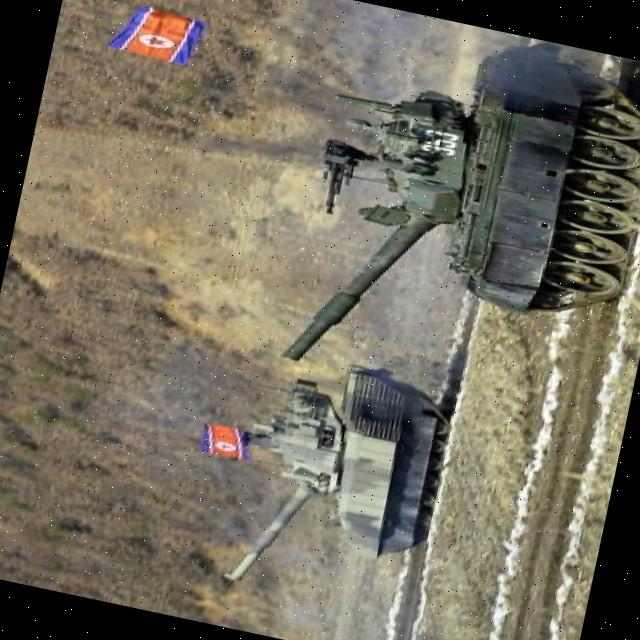north tank: (227, 0, 640, 442), (165, 338, 490, 637)
